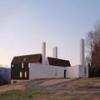chimneys: (80, 38, 85, 66), (42, 40, 46, 64), (52, 46, 58, 59)
